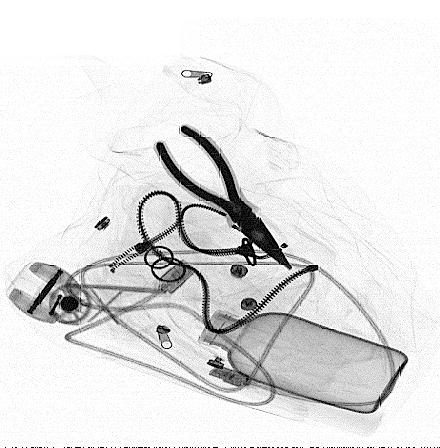Pliers: (153, 124, 294, 272)
